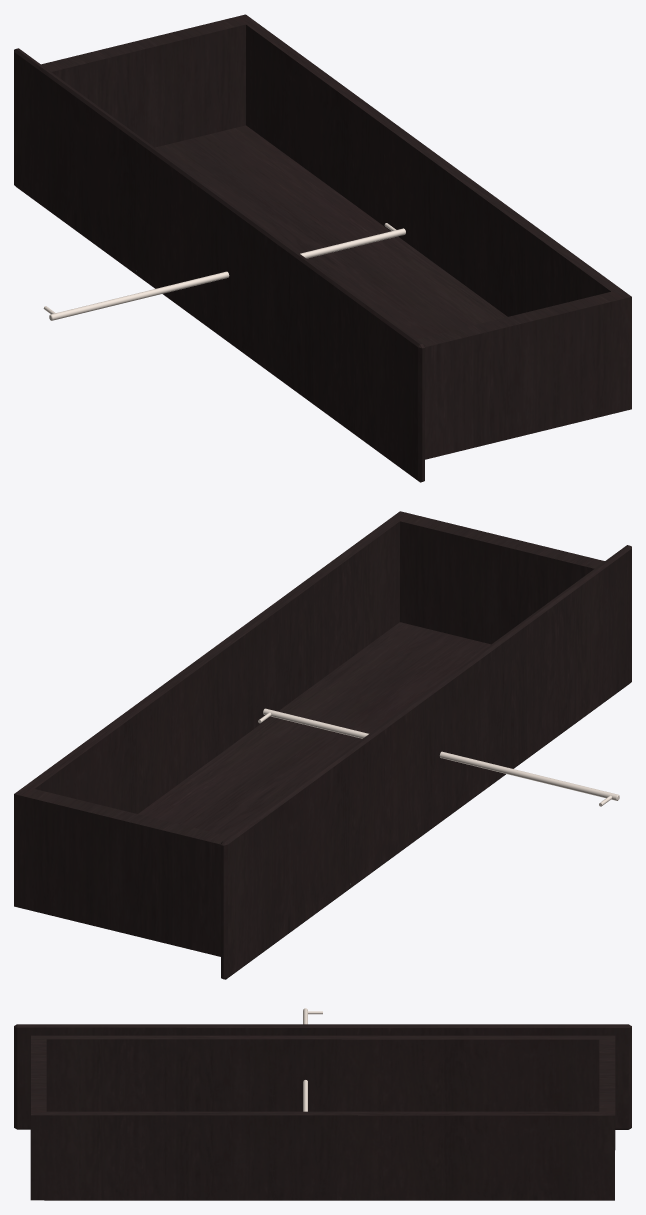
The model's file is Drawer_024ee6f0.obj.
3 views of the same model, one above another, from view 1: azimuth 30°, elevation 25°; view 2: azimuth 150°, elevation 25°; view 3: azimuth 270°, elevation 25° (orthographic). The views are drawn at different scales.
Parts seen in each view (by area): view 1: FP416:Door_01_d81fe9af, handle_1_600mm_01_d2d85295; view 2: FP416:Door_01_d81fe9af, handle_1_600mm_01_d2d85295; view 3: FP416:Door_01_d81fe9af, handle_1_600mm_01_d2d85295.
Boxes of the visible parts, box(x1,y1,x2,y2) form: FP416:Door_01_d81fe9af: box(14, 14, 631, 482); handle_1_600mm_01_d2d85295: box(43, 223, 405, 320); FP416:Door_01_d81fe9af: box(14, 511, 631, 979); handle_1_600mm_01_d2d85295: box(258, 708, 619, 806); FP416:Door_01_d81fe9af: box(14, 1024, 631, 1200); handle_1_600mm_01_d2d85295: box(303, 1008, 322, 1111).
Size of the model in its own units: 0.6773 by 0.224 by 1.2.
